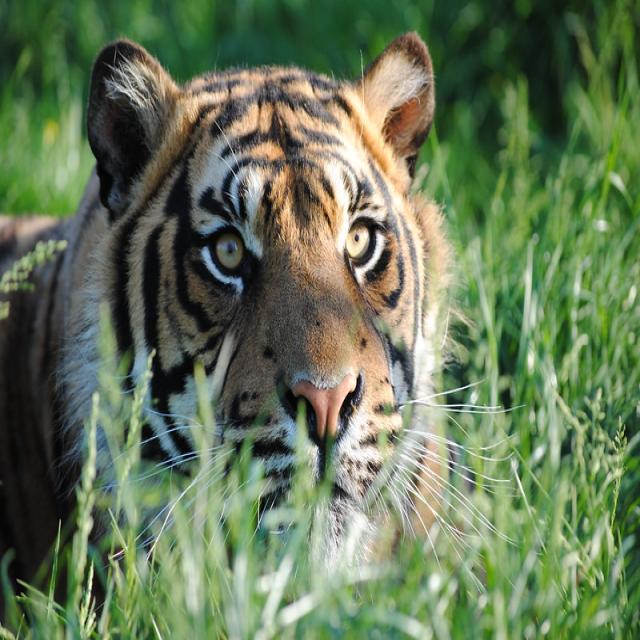Tiger: (0, 26, 484, 597)
